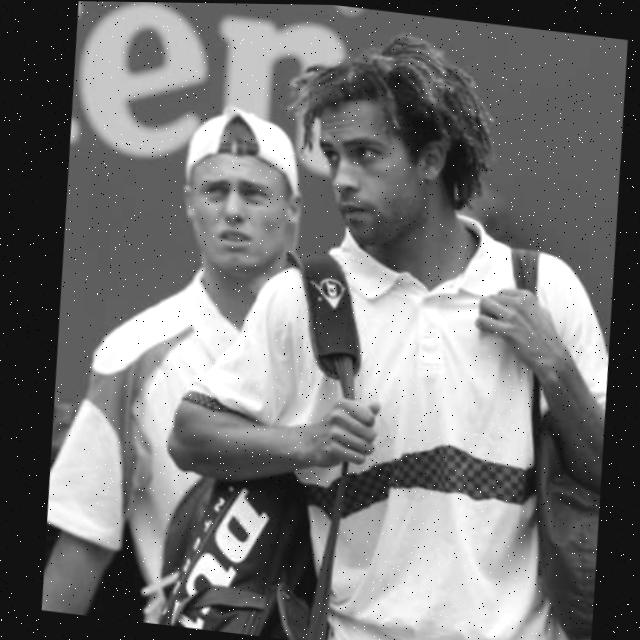face: (288, 49, 471, 270), (171, 120, 314, 290)
